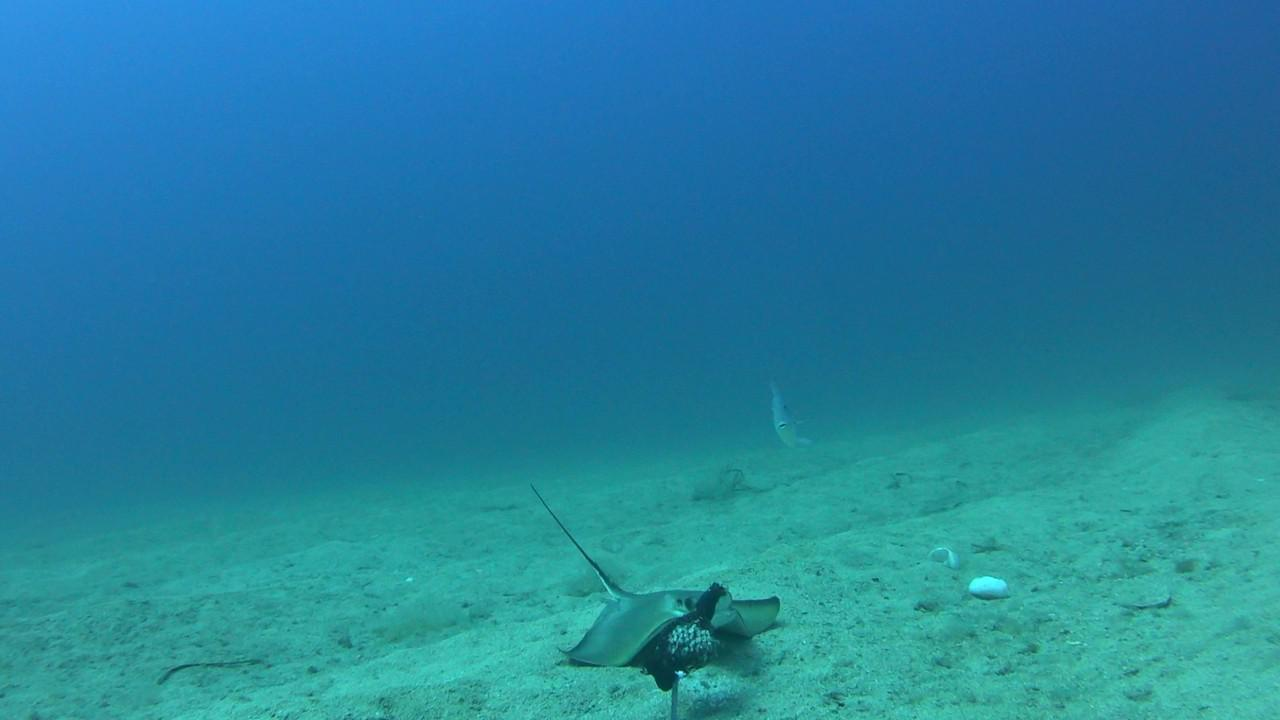balistes: (770, 379, 814, 458)
myliobatis: (507, 479, 794, 659)
